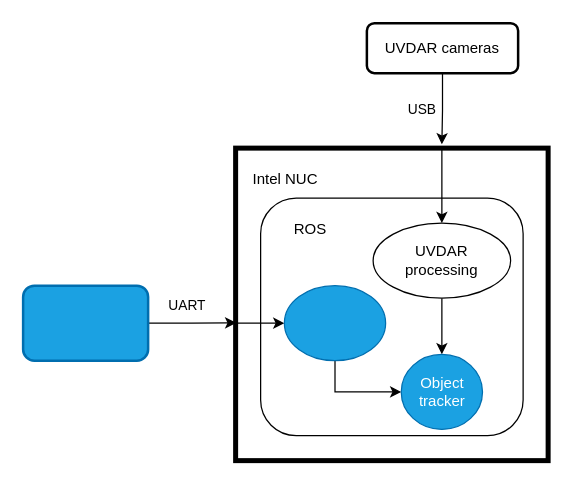
This 571x484 diagram has some shape labels left out. Each missing label, with the centre of its shape:
UWB DW1000: (x=85, y=322)
UWB processing: (x=334, y=322)
